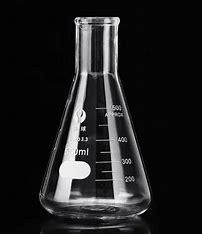Titrarion: (29, 10, 156, 227)
